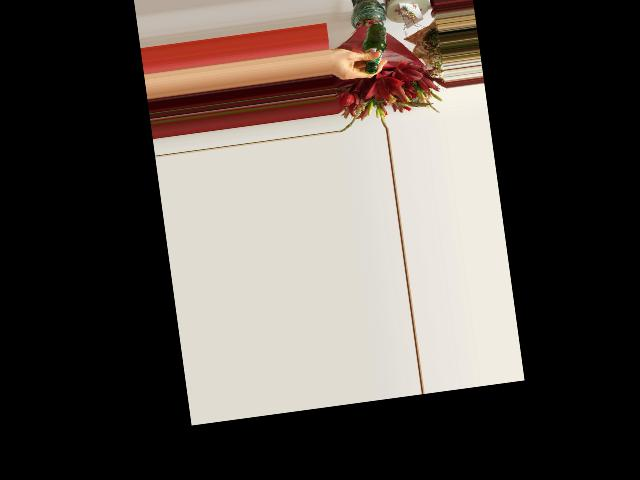beer: (358, 22, 391, 74)
